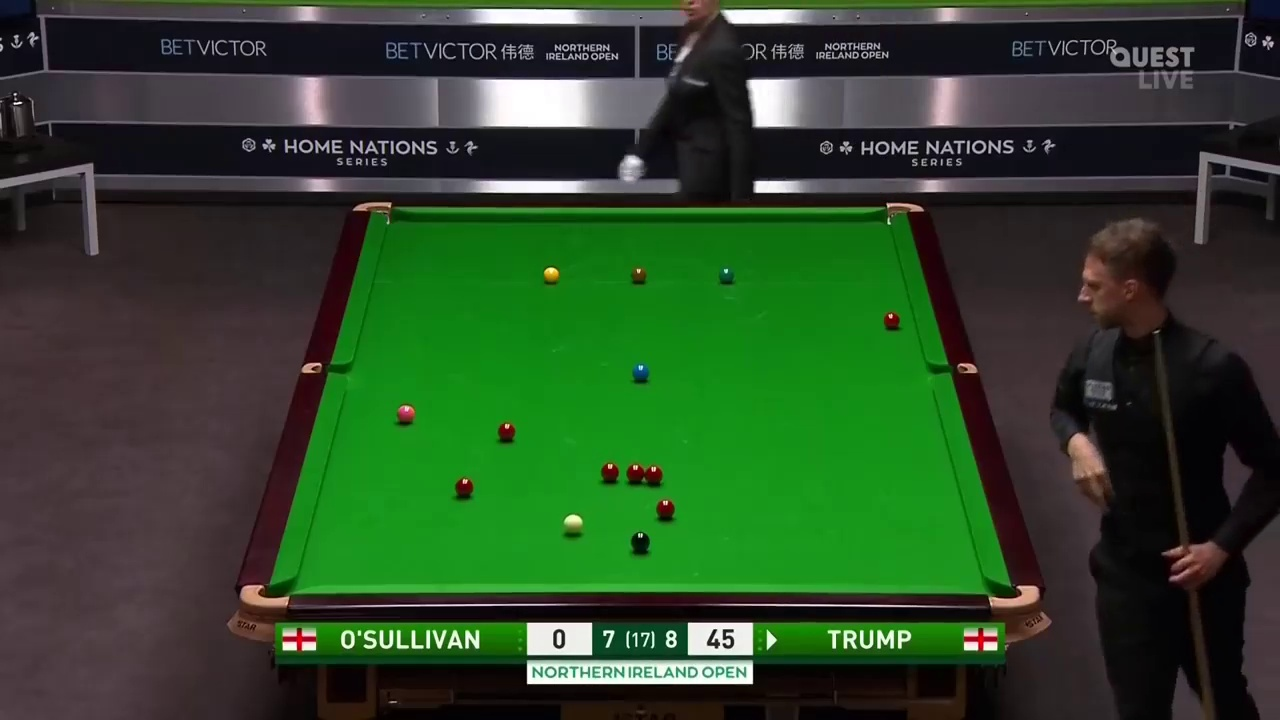black: (631, 531, 649, 551)
blue: (632, 366, 650, 382)
brown: (630, 265, 646, 284)
green: (717, 267, 734, 284)
pink: (398, 406, 414, 422)
red: (647, 462, 663, 486), (601, 462, 619, 483), (455, 478, 473, 498), (657, 499, 673, 520), (883, 310, 900, 328), (496, 422, 514, 439), (629, 462, 643, 483)
white: (562, 513, 584, 534)
yellow: (543, 266, 559, 283)
